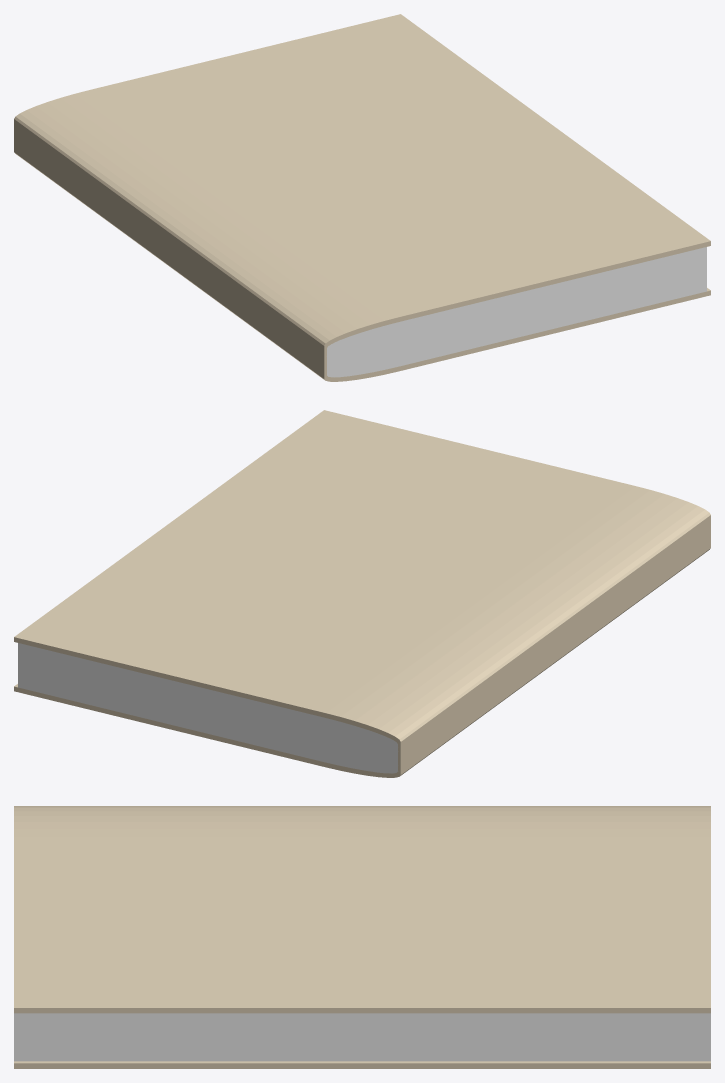
File: Book3.fbx
3 views of the same model, one above another, from view 1: azimuth 30°, elevation 25°; view 2: azimuth 150°, elevation 25°; view 3: azimuth 270°, elevation 25° (orthographic). The views are drawn at different scales.
Parts seen in each view (by area): view 1: BookBody, Inside; view 2: BookBody, Inside; view 3: BookBody, Inside.
Part boxes in pixels (bbox=[...]): BookBody: bbox=[14, 14, 710, 381]; Inside: bbox=[327, 247, 706, 377]; BookBody: bbox=[14, 410, 710, 777]; Inside: bbox=[18, 643, 398, 773]; BookBody: bbox=[14, 806, 710, 1068]; Inside: bbox=[14, 1013, 710, 1061].
Size of the model in its own units: 144 by 19.28 by 200.
